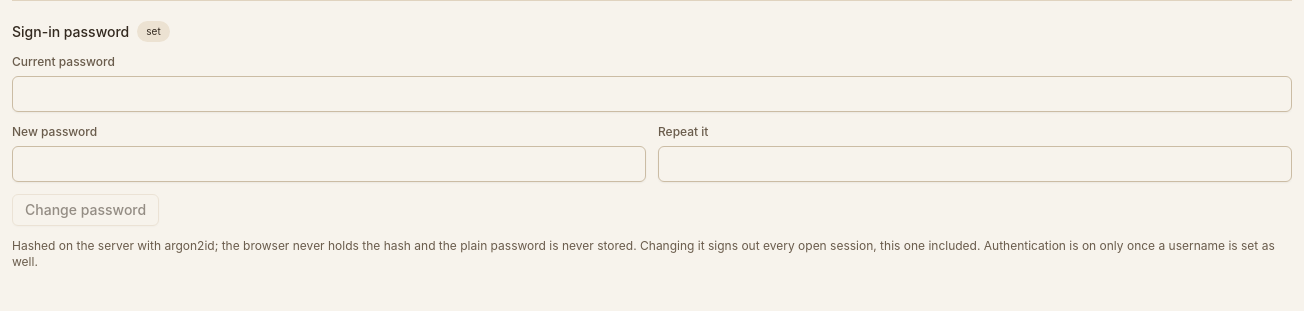
Test: AuthSection › shows the server's refusal rather than swallowing it
The width and height of the screenshot is (1304, 311).
Type "nope" into the password field labelled "Current password". click: point(652, 94)
box: [12, 76, 1292, 112]
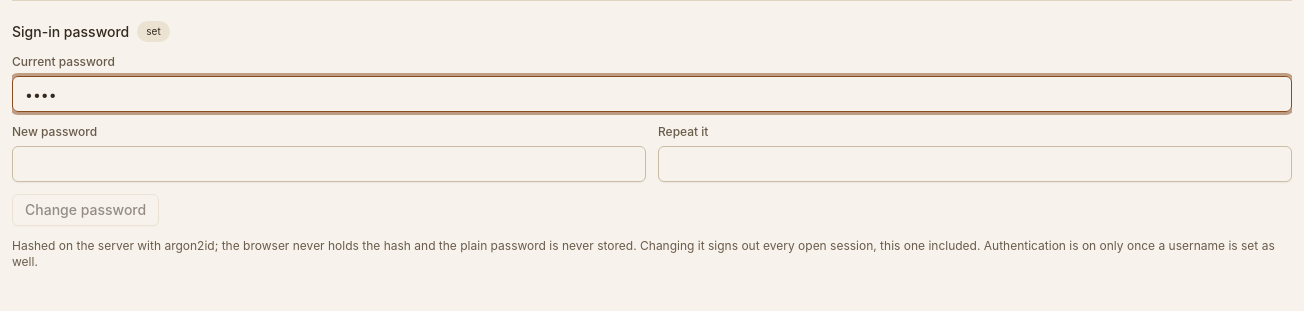
Type "a-long-enough-passphrase" into the password field named "New password". click: point(329, 164)
box: [12, 146, 646, 182]
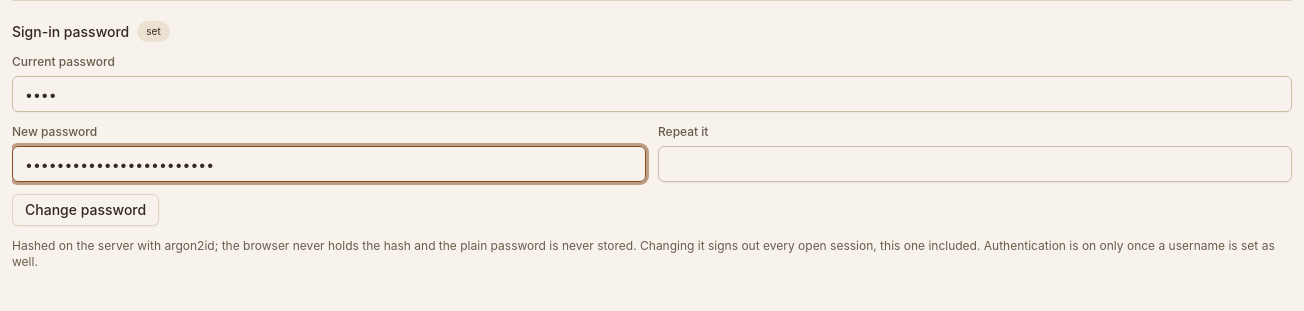
Type "a-long-enough-passphrase" into the password field labelled "Repeat it". click: point(975, 164)
box: [658, 146, 1292, 182]
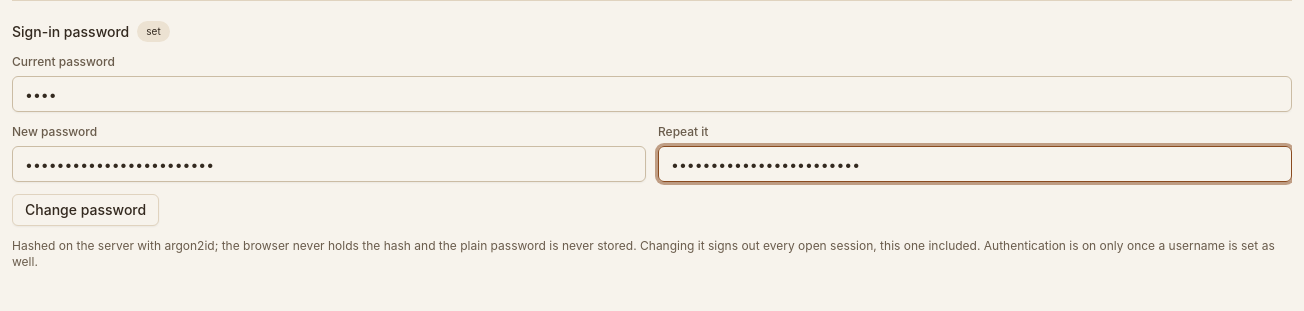
Click the button "Change password". click: point(86, 210)
box: [12, 194, 159, 226]
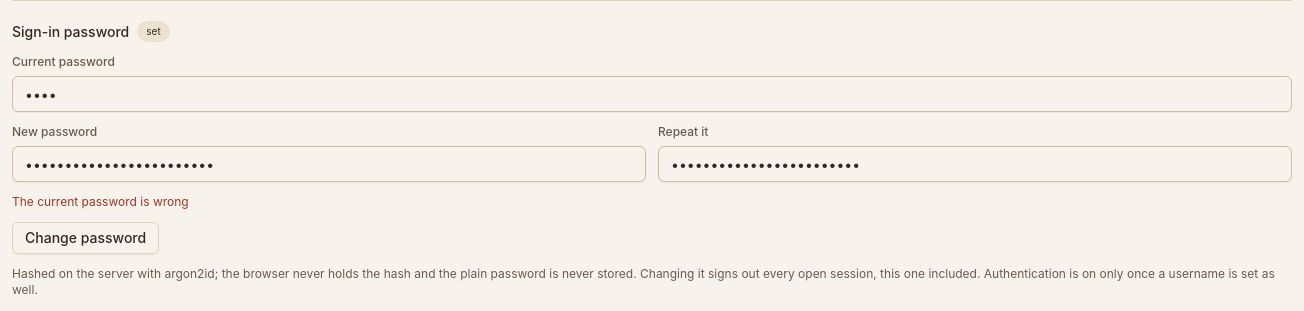
Now the message reads "The current password is wrong", box [12, 194, 189, 209]
